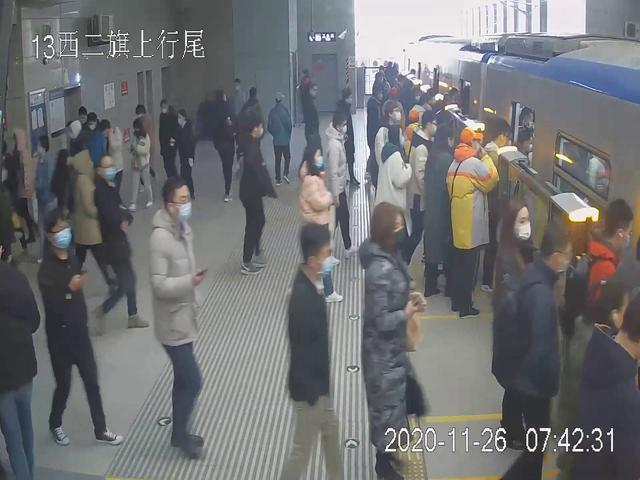person: (37, 209, 124, 445), (358, 204, 429, 480), (278, 221, 347, 480), (151, 175, 212, 459), (443, 126, 499, 318), (93, 154, 147, 332), (298, 143, 344, 305), (233, 114, 272, 279), (319, 107, 359, 258), (266, 92, 295, 188), (128, 118, 156, 214)
